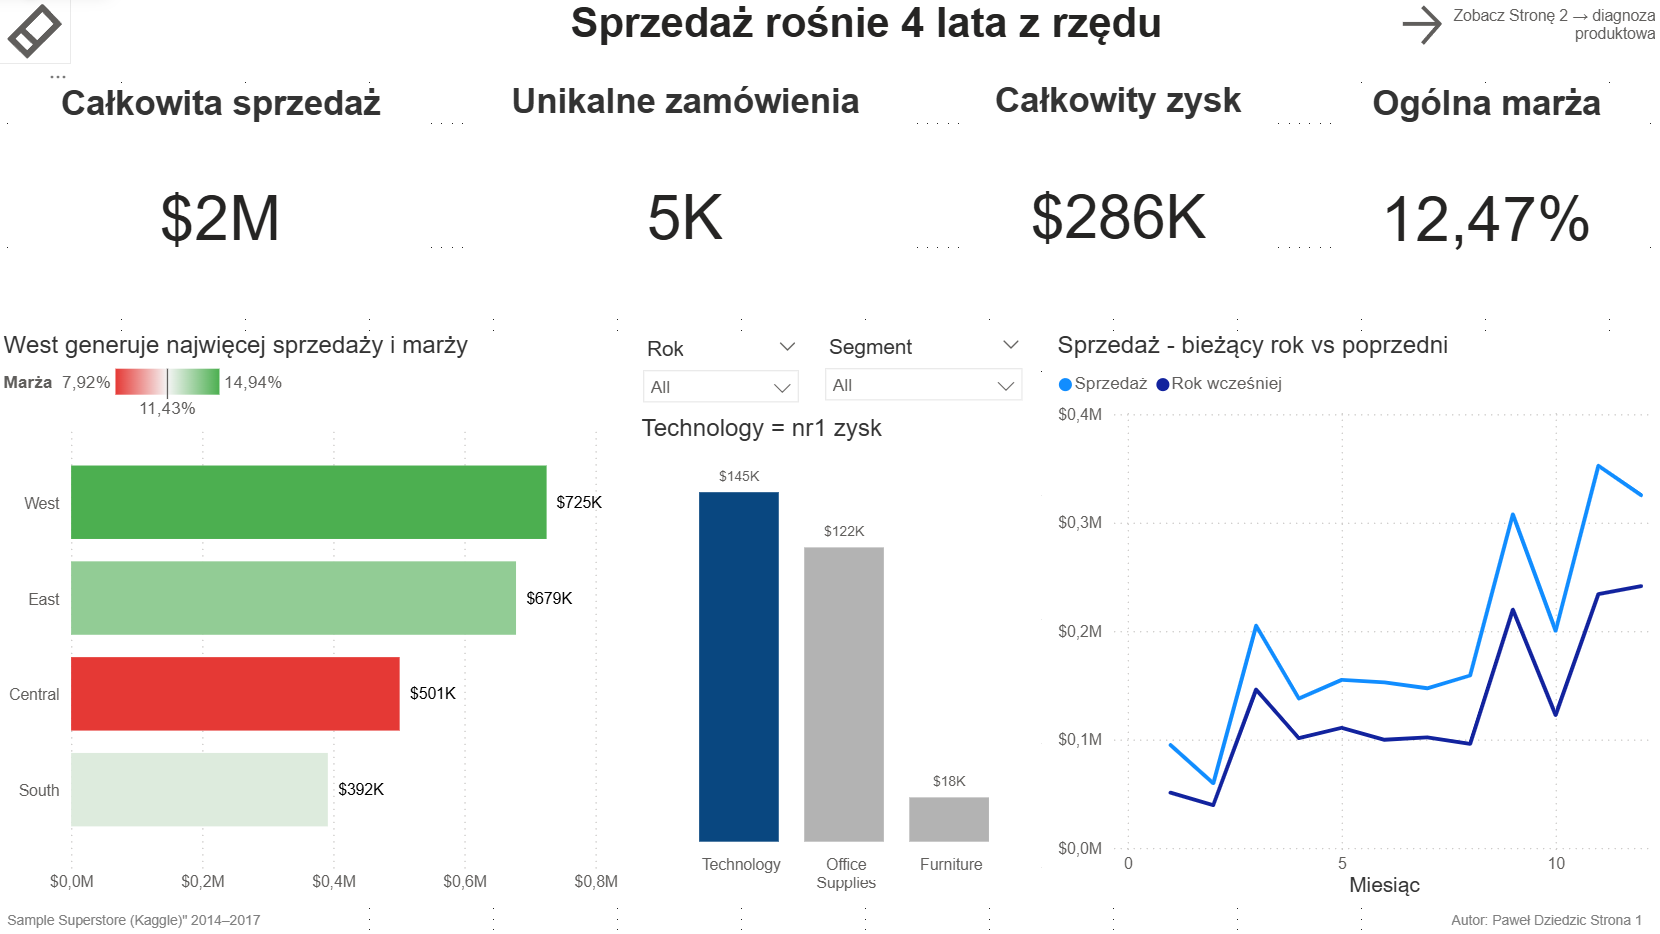

What the dashboard file says about the page in this screenshot:
{"tool":"powerbi","page":{"name":"Ogólna sprzedaż","canvas":[1280,720],"ordinal":0},"visuals":[{"type":"textbox","box":[57.6,0,1222.1,63.4],"z":0},{"type":"cardVisual","title":"Całkowity zysk","fields":{"Data":["Fact_orders.Total_proft"]},"box":[743.1,63.4,239,178.6],"z":0,"group":"g1"},{"type":"textbox","box":[0,695,260,25],"z":0,"group":"g2"},{"type":"lineChart","title":"Sprzedaż - bieżący rok vs   poprzedni","fields":{"Y":["Fact_orders.Total_sales","Fact_orders.last_year_sales"],"Category":["Dim_date.Rok","Dim_date.Miesiąc"]},"box":[811,255,469,440],"z":1000},{"type":"textbox","box":[1114,695,165,25],"z":1000,"group":"g2"},{"type":"cardVisual","title":"Całkowita sprzedaż","fields":{"Data":["Fact_orders.Total_sales"]},"box":[15.4,65.9,313.6,175.5],"z":2000,"group":"g1"},{"type":"clusteredBarChart","title":"West generuje najwięcej sprzedaży i marży","fields":{"Category":["Fact_orders.Region"],"Y":["Fact_orders.Total_sales"]},"box":[0,255,487,440],"z":2000},{"type":"group","id":"g1","title":"Grupa 1","box":[15.4,63.4,1249.9,178.6],"z":3000},{"type":"cardVisual","title":"Ogólna marża","fields":{"Data":["Fact_orders.Profit Margin %"]},"box":[1027.2,65.8,238.2,176.4],"z":3000,"group":"g1"},{"type":"actionButton","box":[0,0,57,50],"z":4000},{"type":"cardVisual","title":"Unikalne zamówienia","fields":{"Data":["Fact_orders.Uniq_order_count"]},"box":[359.5,64.6,340.8,177.6],"z":4000,"group":"g1"},{"type":"clusteredColumnChart","title":"Technology = nr1 zysk","fields":{"Category":["Dim_product.Category"],"Y":["Fact_orders.Total_profit"]},"box":[491,319,313,376],"z":5000},{"type":"slicer","fields":{"Values":["Dim_date.Rok"]},"box":[487,255,140,64],"z":6000},{"type":"slicer","fields":{"Values":["dim_customer.Segment"]},"box":[627,254,172,65],"z":7000},{"type":"actionButton","box":[1075.2,0,204.5,40.3],"z":9000},{"type":"group","id":"g2","title":"Group 1","box":[0,695,1279,25],"z":10000}]}

Visuals, with their boxes in screenshot pixels (x1, y1, x2, y2), scaled from the page's 1280x720 canvas onto the 1660x934 screenshot:
textbox: (75,0,1659,82)
"Całkowity zysk" cardVisual: (964,82,1274,314)
textbox: (0,902,337,933)
"Sprzedaż - bieżący rok vs   poprzedni" lineChart: (1052,331,1659,902)
textbox: (1445,902,1659,933)
"Całkowita sprzedaż" cardVisual: (20,85,427,313)
"West generuje najwięcej sprzedaży i marży" clusteredBarChart: (0,331,632,902)
"Grupa 1" group: (20,82,1641,314)
"Ogólna marża" cardVisual: (1332,85,1641,314)
actionButton: (0,0,74,65)
"Unikalne zamówienia" cardVisual: (466,84,908,314)
"Technology = nr1 zysk" clusteredColumnChart: (637,414,1043,902)
slicer - Dim_date.Rok: (632,331,813,414)
slicer - dim_customer.Segment: (813,329,1036,414)
actionButton: (1394,0,1659,52)
"Group 1" group: (0,902,1659,933)
